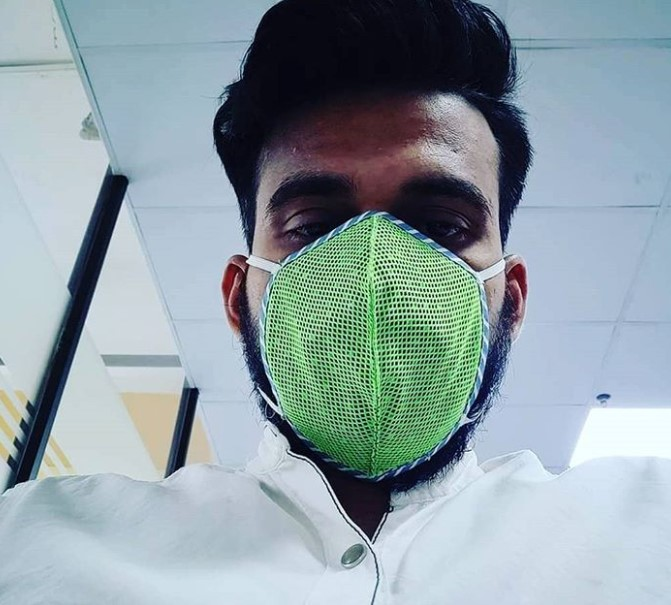face_with_mask: (216, 2, 529, 499)
